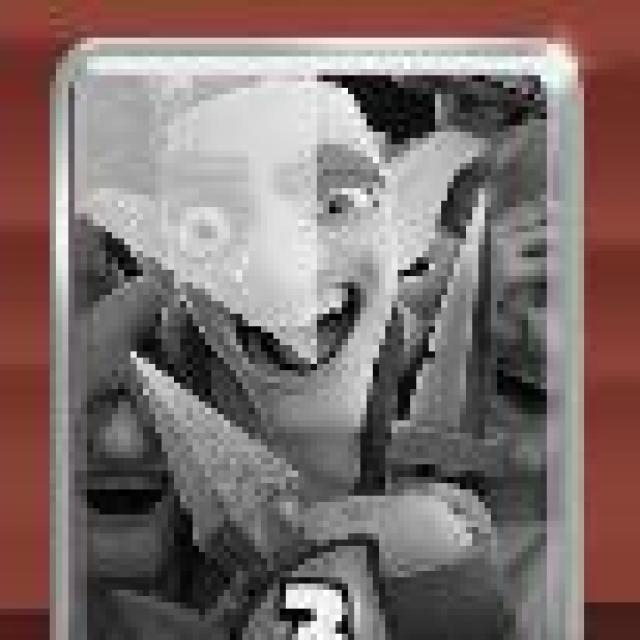Goblin_Gang: (60, 32, 591, 640)
